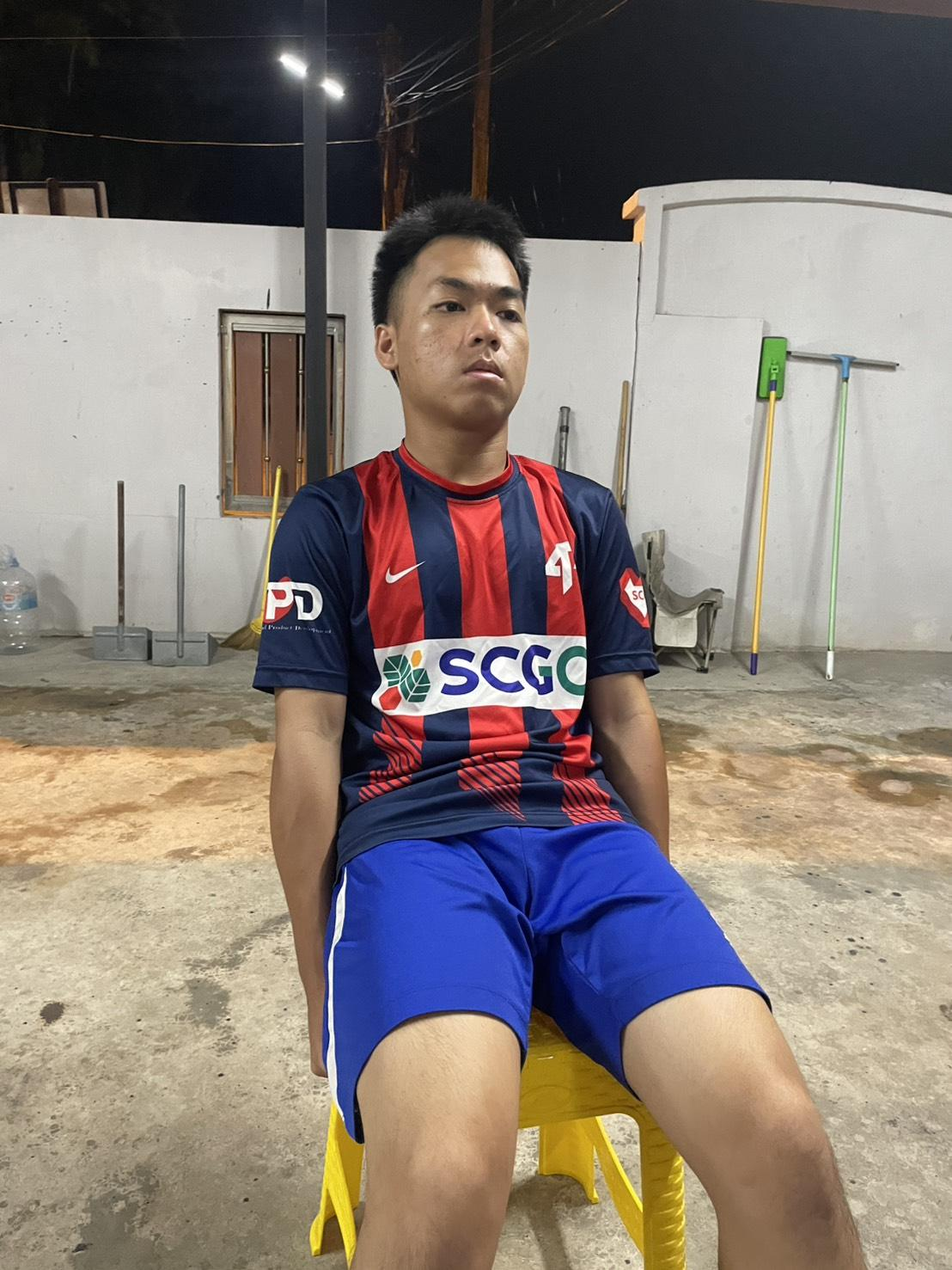BadPosture: (253, 195, 760, 1013), (255, 196, 668, 859)
